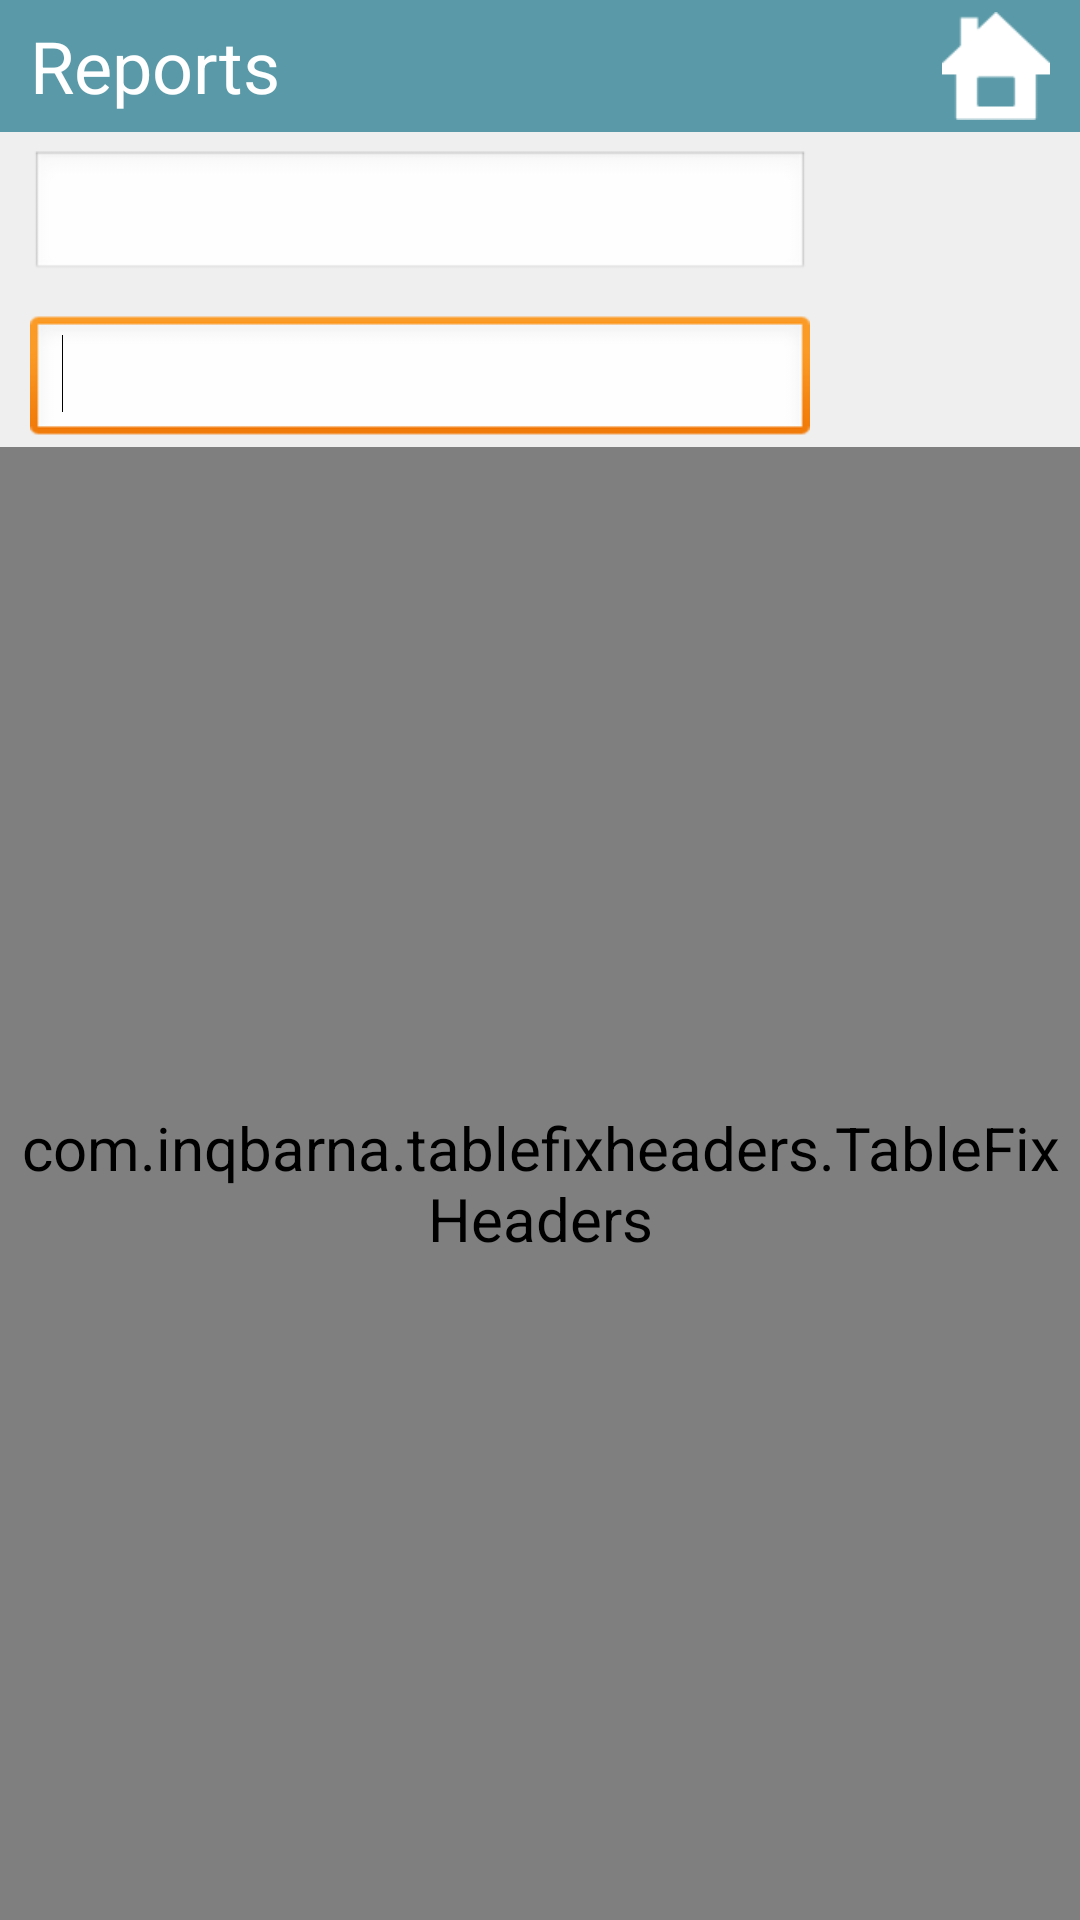

Named icons in this screenshot (1080w x 1920h) and their bounding boxes, (x1, y1, x2, y2):
home: (942, 12, 1050, 120)
